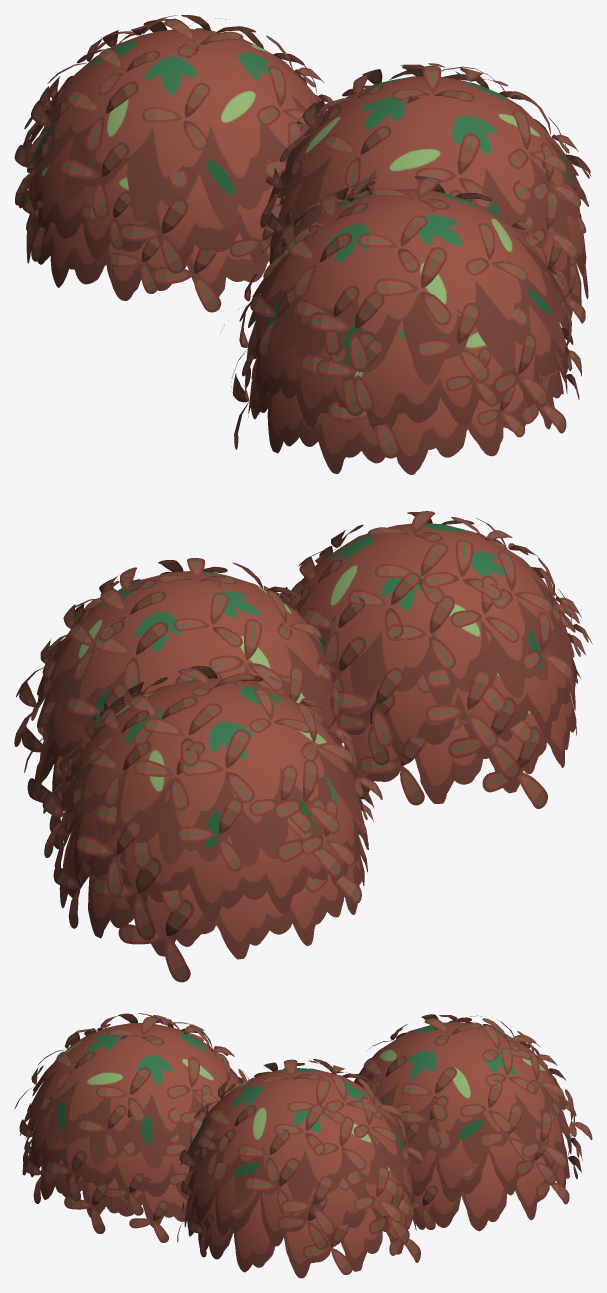
Rendered from ThreeBushCrimson.fbx.
3 views of the same model, one above another, from view 1: azimuth 30°, elevation 25°; view 2: azimuth 150°, elevation 25°; view 3: azimuth 270°, elevation 25° (orthographic). The views are drawn at different scales.
Visible parts, largest first — view 1: Sphere.027; view 2: Sphere.027; view 3: Sphere.027.
Boxes of the visible parts, x1=… form: Sphere.027: x1=14, y1=15, x2=591, y2=474; Sphere.027: x1=14, y1=511, x2=592, y2=982; Sphere.027: x1=14, y1=1013, x2=592, y2=1278.
Bounding box in the file's own units: 319 × 163 × 494.
